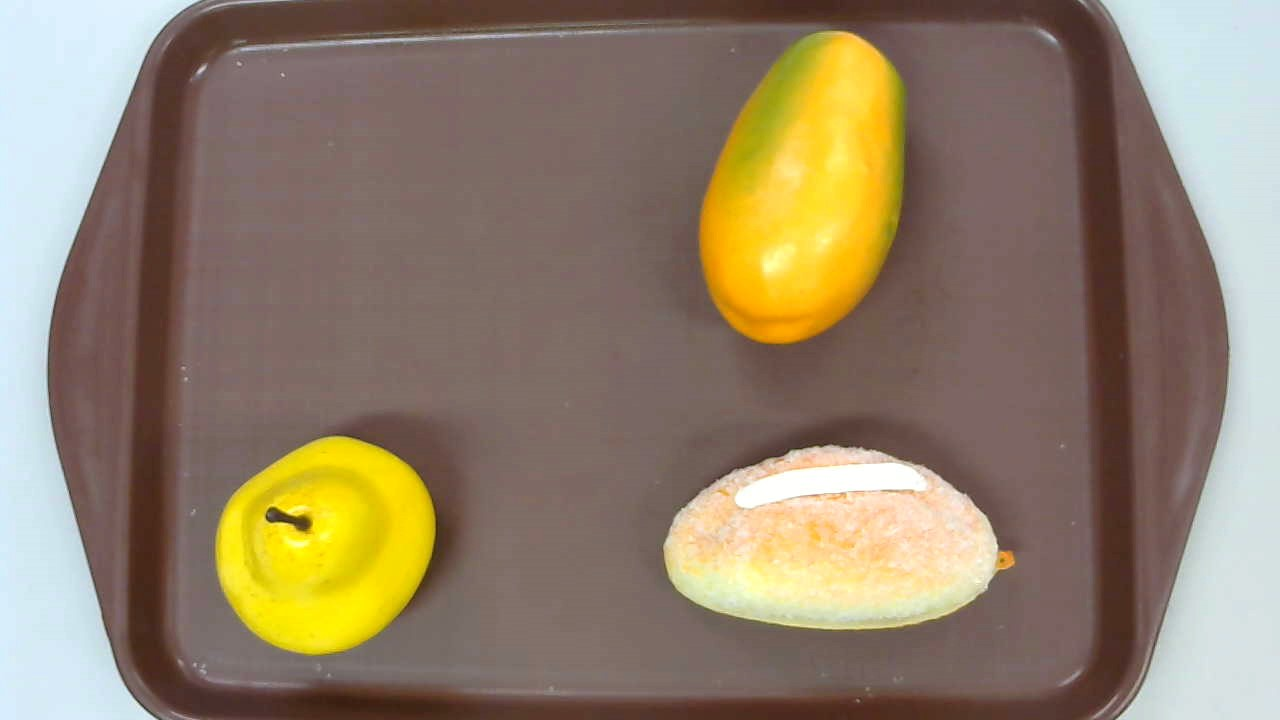coconut: (663, 443, 1015, 633)
papya: (697, 29, 905, 345)
yellow pear: (215, 435, 435, 654)
